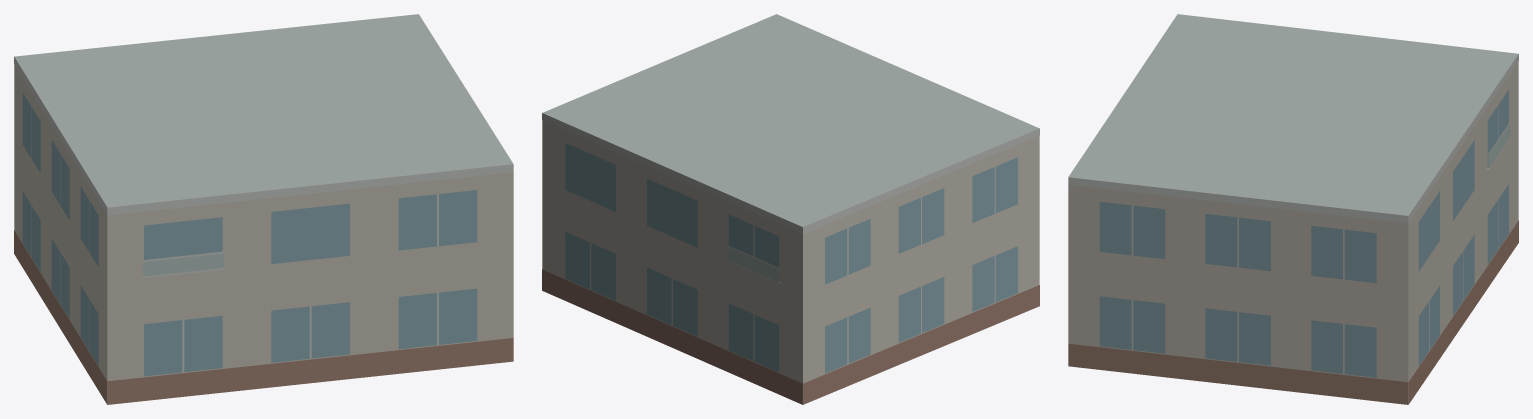
The model's file is survey-upis-32713049.glb.
3 views of the same model, side by side, from view 1: azimuth 30°, elevation 25°; view 2: azimuth 150°, elevation 25°; view 3: azimuth 270°, elevation 25° (orthographic). The views are drawn at different scales.
Visible parts, largest first — view 1: survey-upis-32713049.tmp; view 2: survey-upis-32713049.tmp; view 3: survey-upis-32713049.tmp.
Boxes of the visible parts, x1,y1,x2,y2 form: survey-upis-32713049.tmp: (14, 14, 513, 404); survey-upis-32713049.tmp: (542, 14, 1039, 404); survey-upis-32713049.tmp: (1068, 14, 1518, 404).
Bounding box in the file's own units: 13.99 × 6.1 × 13.19.
